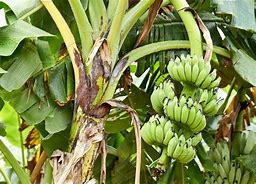banana: (132, 82, 228, 126), (125, 119, 210, 168), (152, 51, 224, 87)
